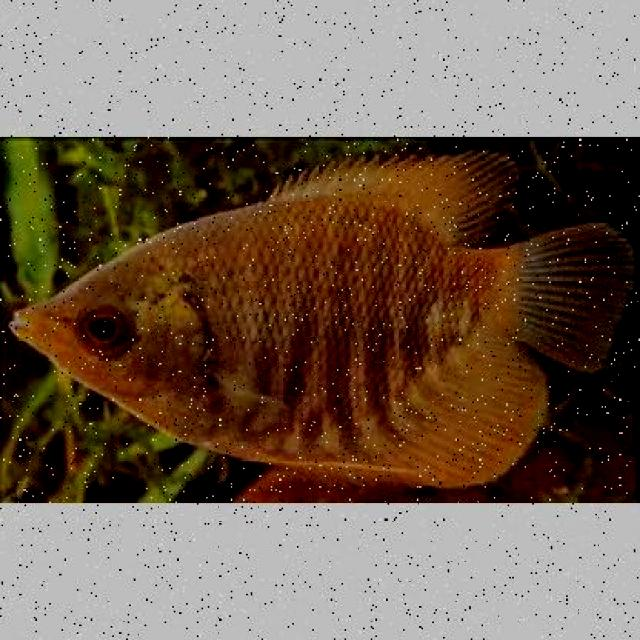gurame: (1, 150, 634, 481)
